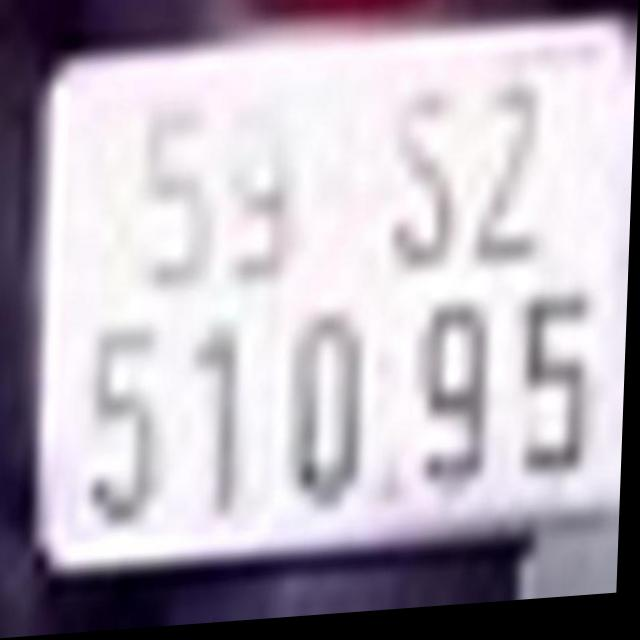0: (290, 299, 375, 512)
1: (187, 317, 254, 517)
2: (466, 75, 549, 275)
5: (86, 328, 175, 534), (509, 282, 598, 486), (134, 103, 226, 288)
9: (418, 296, 496, 499), (229, 91, 302, 285)
S: (389, 94, 460, 274)
